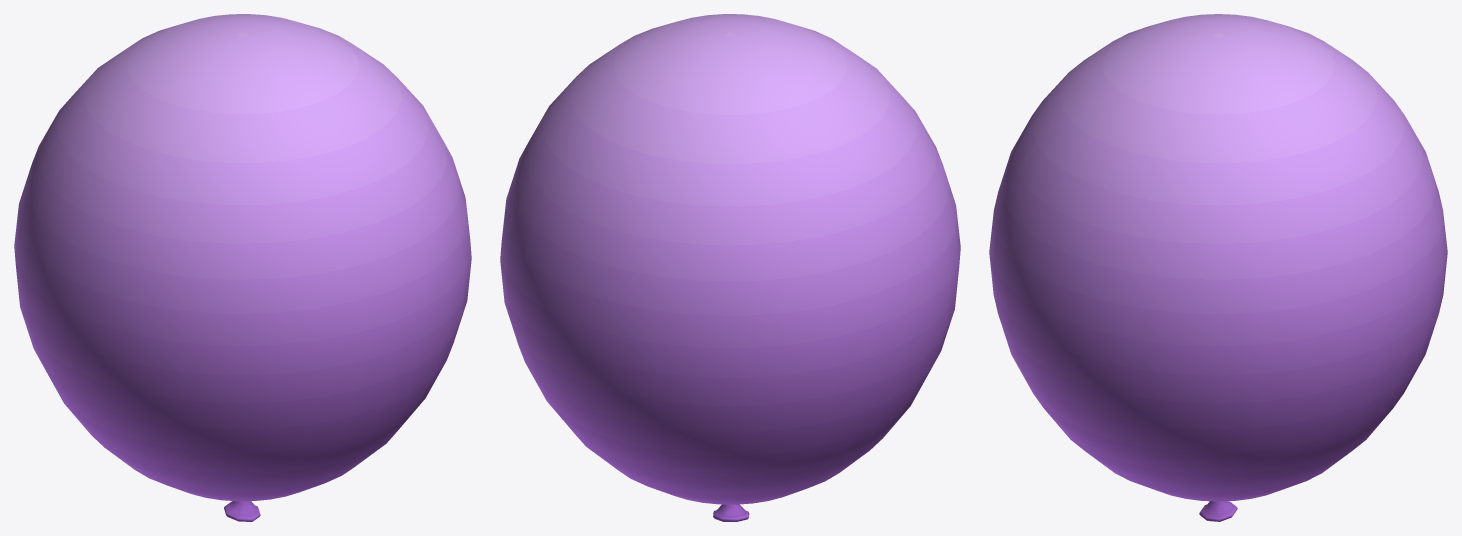
Rendered from balloon_violet.fbx.
The picture shows the model from 3 angles, left to right: view 1: azimuth 30°, elevation 25°; view 2: azimuth 150°, elevation 25°; view 3: azimuth 270°, elevation 25°; orthographic projection.
Parts seen in each view (by area): view 1: balloon_violet, balloon_violet_t; view 2: balloon_violet, balloon_violet_t; view 3: balloon_violet, balloon_violet_t.
Part boxes in pixels (x1,y1,x2,y2): balloon_violet: (14, 14, 471, 501); balloon_violet_t: (224, 501, 260, 521); balloon_violet: (500, 14, 960, 504); balloon_violet_t: (713, 504, 749, 521); balloon_violet: (989, 14, 1447, 501); balloon_violet_t: (1199, 501, 1237, 521).
Bounding box in the file's own units: 64.65 × 74.87 × 64.65.
